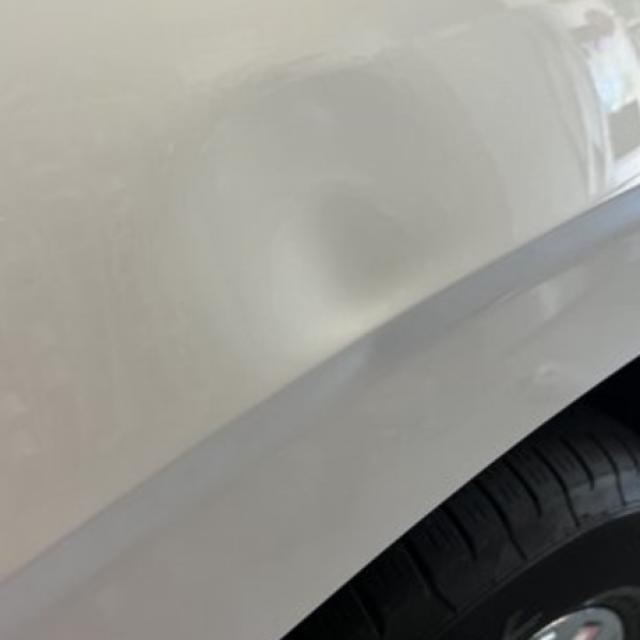dents: (226, 176, 466, 410)
